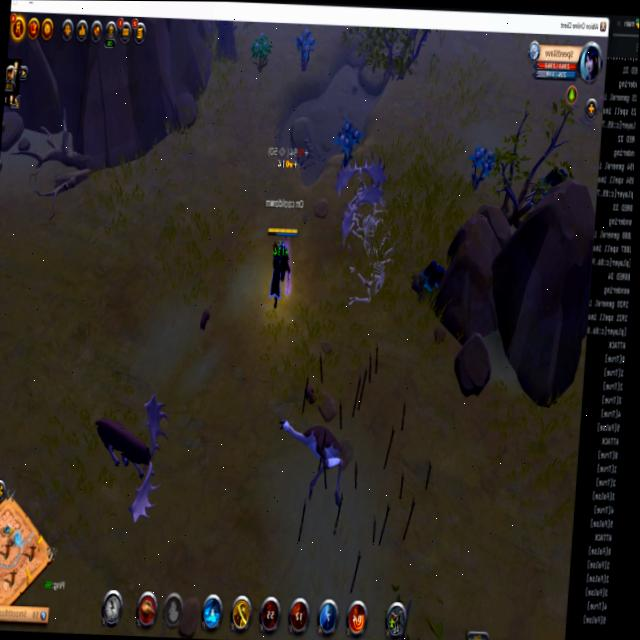hide: (332, 110, 366, 171), (466, 141, 498, 188), (291, 25, 318, 76), (248, 29, 273, 73)
mob: (266, 407, 356, 485)
ore: (83, 386, 176, 534)
red: (257, 216, 305, 320)
